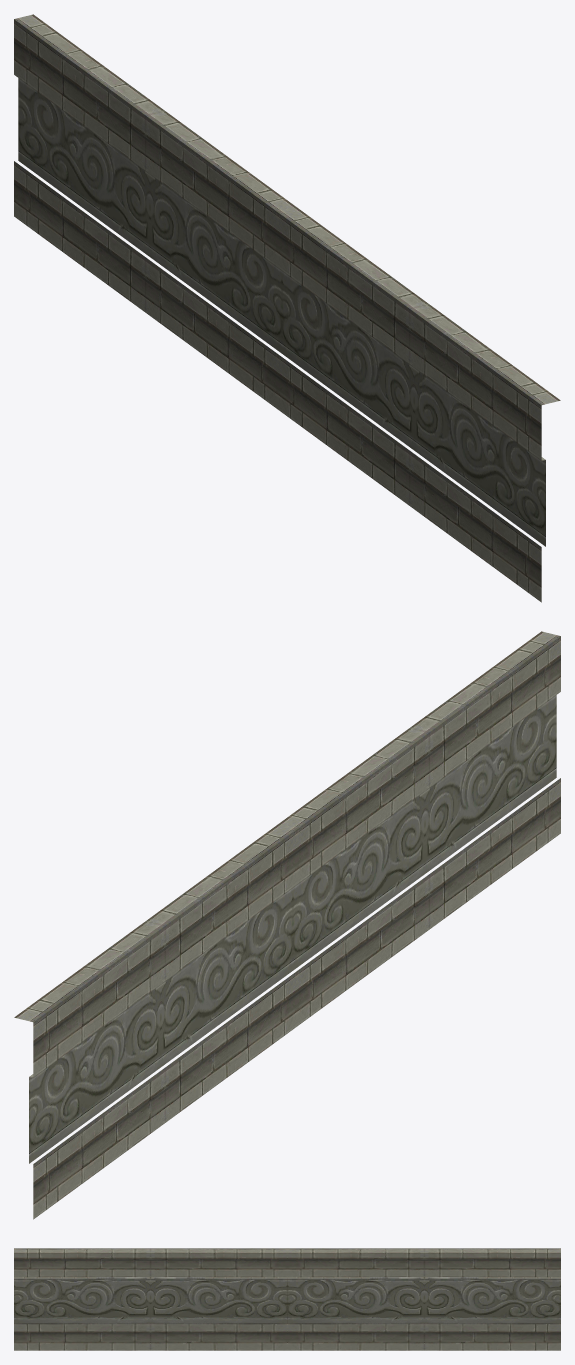
Rendered from Yland1_q_01 Yland1.FBX.
The picture shows the model from 3 angles, top to bottom: view 1: azimuth 30°, elevation 25°; view 2: azimuth 150°, elevation 25°; view 3: azimuth 270°, elevation 25°; orthographic projection. The views are drawn at different scales.
Parts seen in each view (by area): view 1: Yland1_q_01 Yland1; view 2: Yland1_q_01 Yland1; view 3: Yland1_q_01 Yland1.
Boxes of the visible parts, x1,y1,x2,y2 form: Yland1_q_01 Yland1: (14, 14, 560, 602); Yland1_q_01 Yland1: (14, 631, 560, 1219); Yland1_q_01 Yland1: (14, 1248, 560, 1350).
Bounding box in the file's own units: 0.2868 × 2.79 × 13.51.
